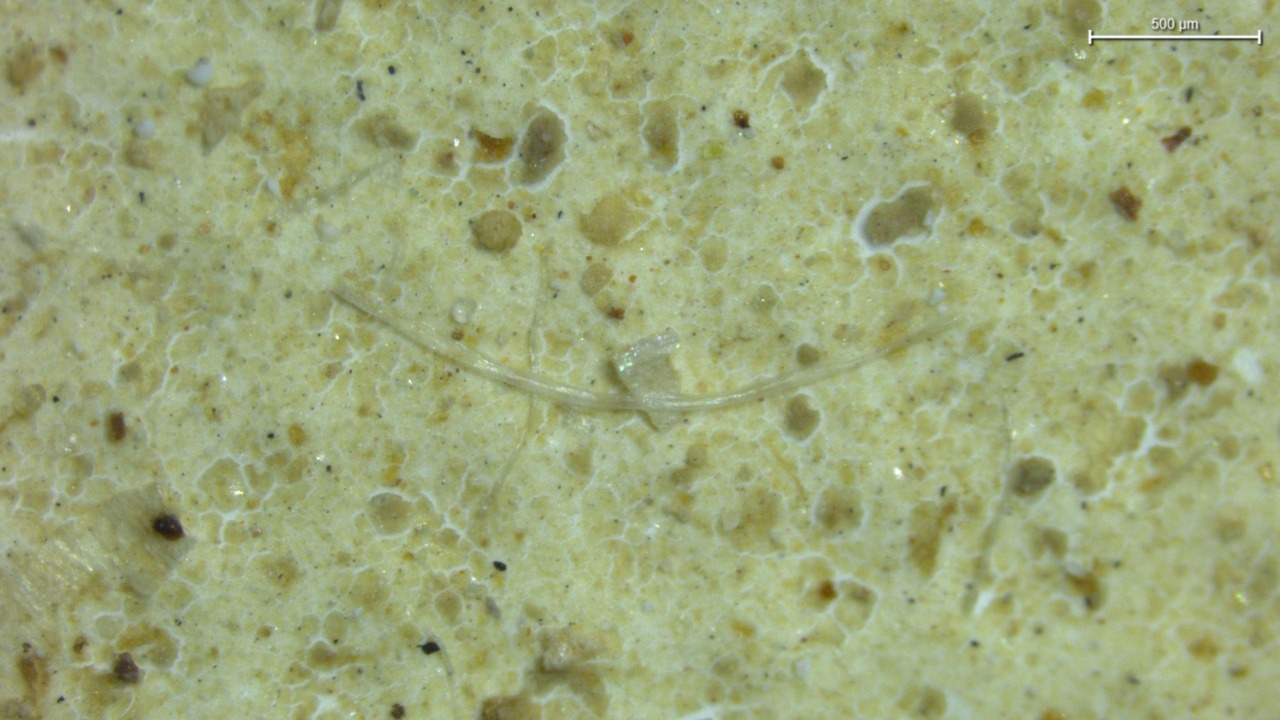microplastic_fragment: (614, 331, 679, 394), (471, 210, 522, 252), (452, 297, 478, 324)
